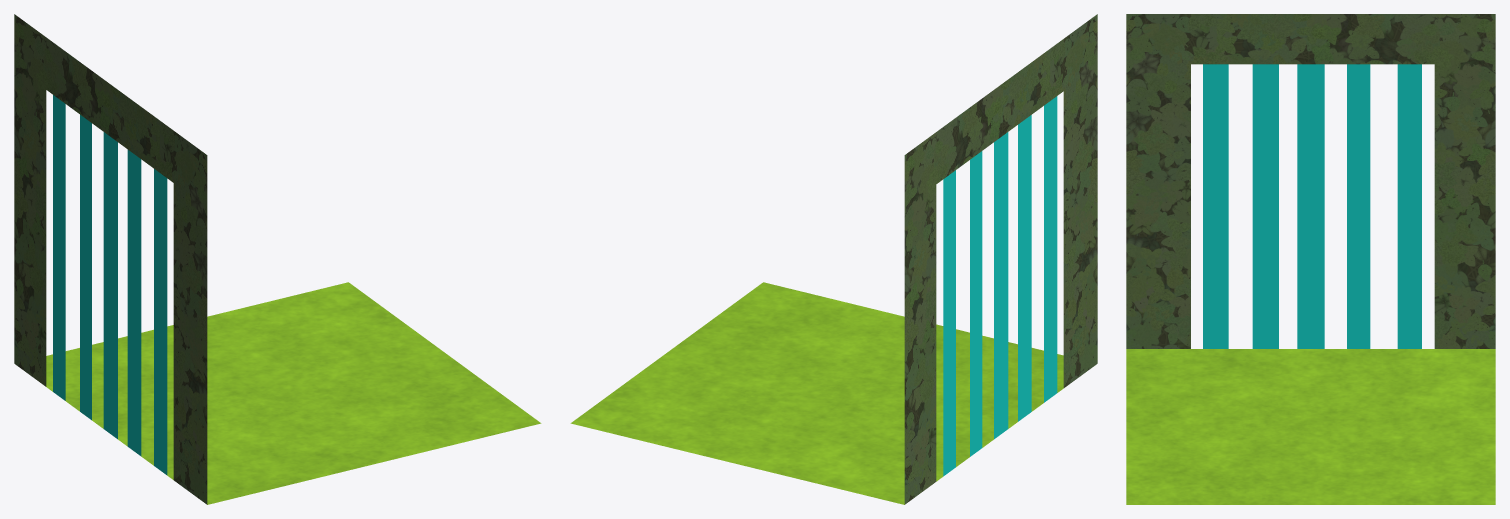
File: garden_wall_gate.glb
The picture shows the model from 3 angles, left to right: view 1: azimuth 30°, elevation 25°; view 2: azimuth 150°, elevation 25°; view 3: azimuth 270°, elevation 25°; orthographic projection. The views are drawn at different scales.
Visible parts, largest first — view 1: ground, door; view 2: ground, door; view 3: ground, door.
Part boxes in pixels (x1,y1,x2,y2): ground: [14, 14, 541, 504]; door: [53, 95, 167, 475]; ground: [570, 14, 1097, 504]; door: [943, 96, 1057, 476]; ground: [1126, 14, 1495, 504]; door: [1203, 64, 1421, 348].
Size of the model in its own units: 2 by 2 by 2.
Materials: 3 (2 with a texture image).
